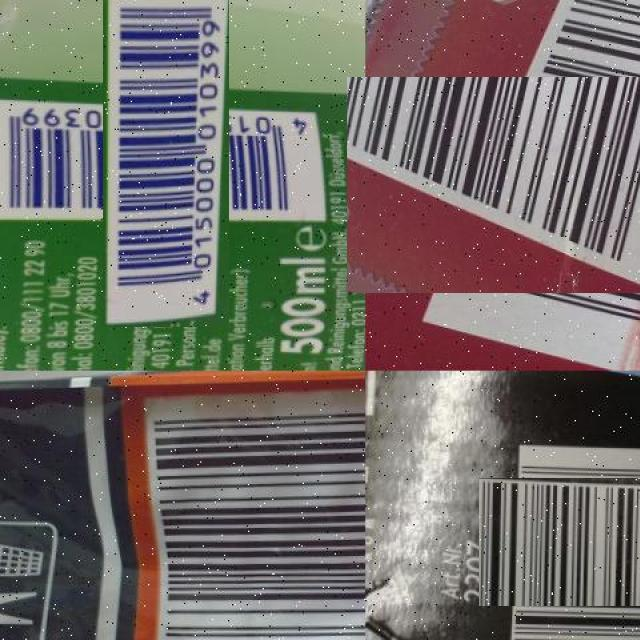Barcode: (386, 38, 640, 332), (143, 381, 365, 640), (51, 48, 280, 276), (495, 461, 640, 622)
